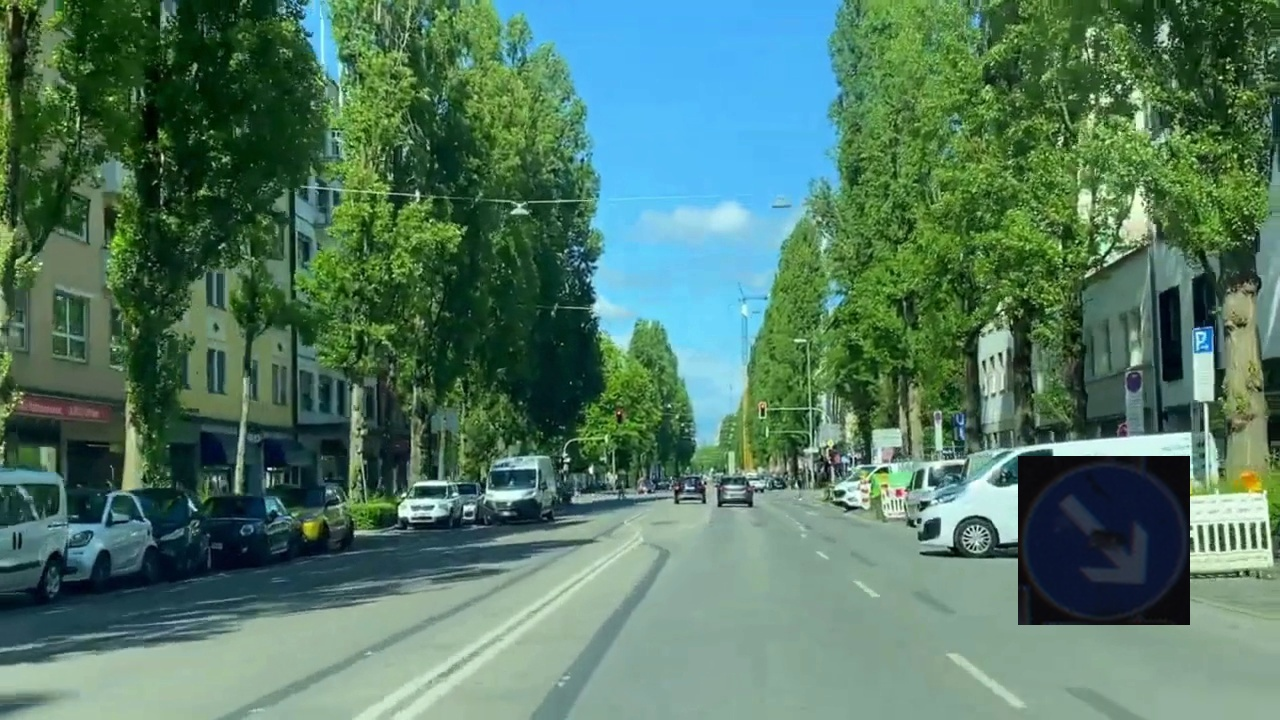Keep right: (1018, 456, 1190, 625)
